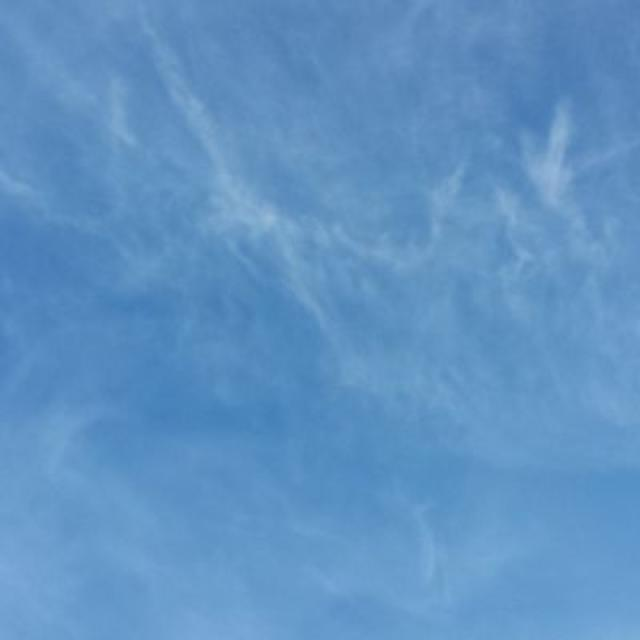Ct: (8, 1, 640, 497)
